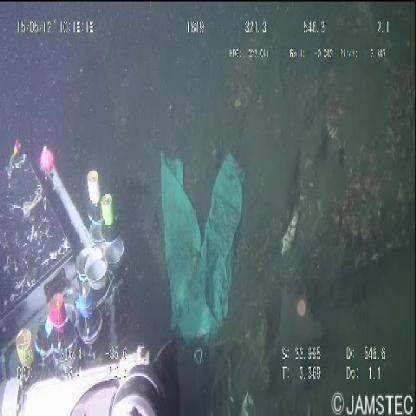Rác: (160, 148, 248, 345)
